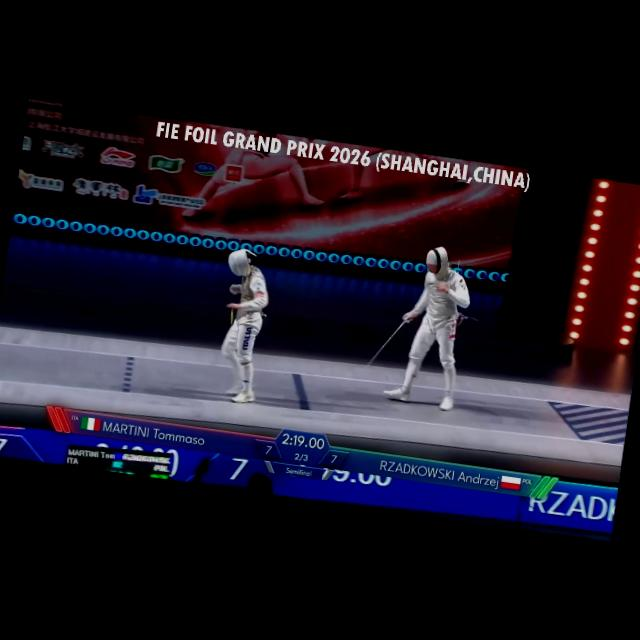blade: (354, 303, 416, 392), (222, 284, 244, 330)
